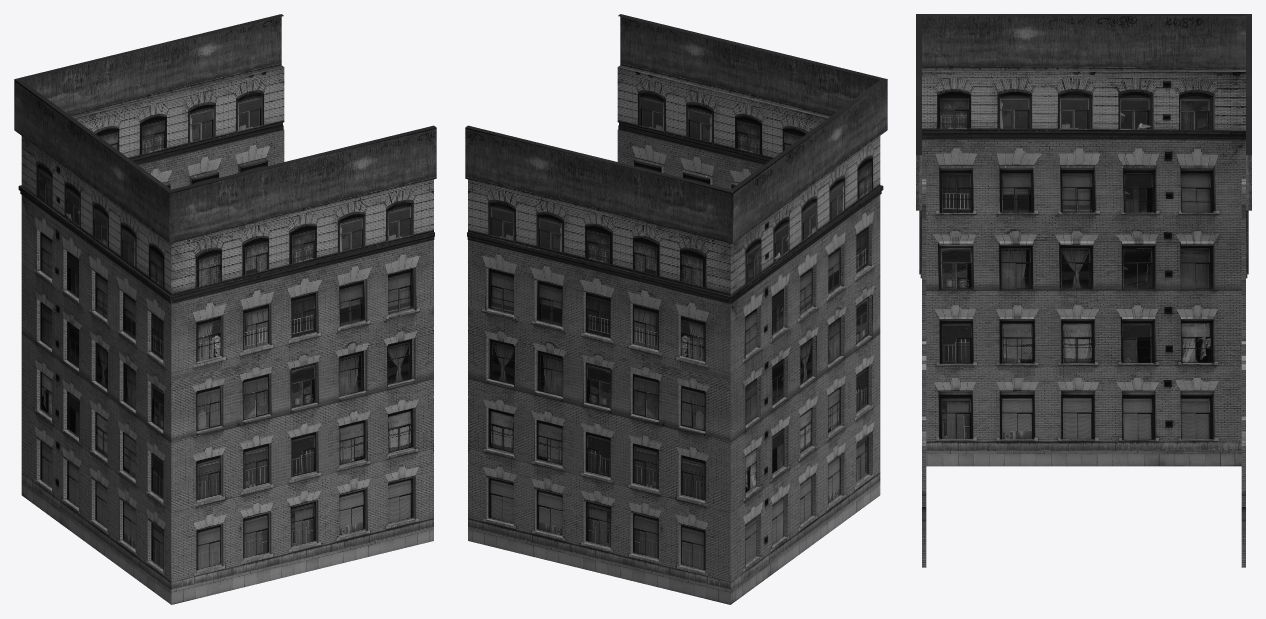
The model's file is skidrow_building_4.fbx.
3 views of the same model, side by side, from view 1: azimuth 30°, elevation 25°; view 2: azimuth 150°, elevation 25°; view 3: azimuth 270°, elevation 25° (orthographic). The views are drawn at different scales.
Visible parts, largest first — view 1: skidrow_building_4; view 2: skidrow_building_4; view 3: skidrow_building_4.
Boxes of the visible parts, x1=… form: skidrow_building_4: x1=14, y1=14, x2=436, y2=604; skidrow_building_4: x1=465, y1=14, x2=887, y2=604; skidrow_building_4: x1=916, y1=14, x2=1251, y2=567.
Size of the model in its own units: 992 by 1474 by 998.
